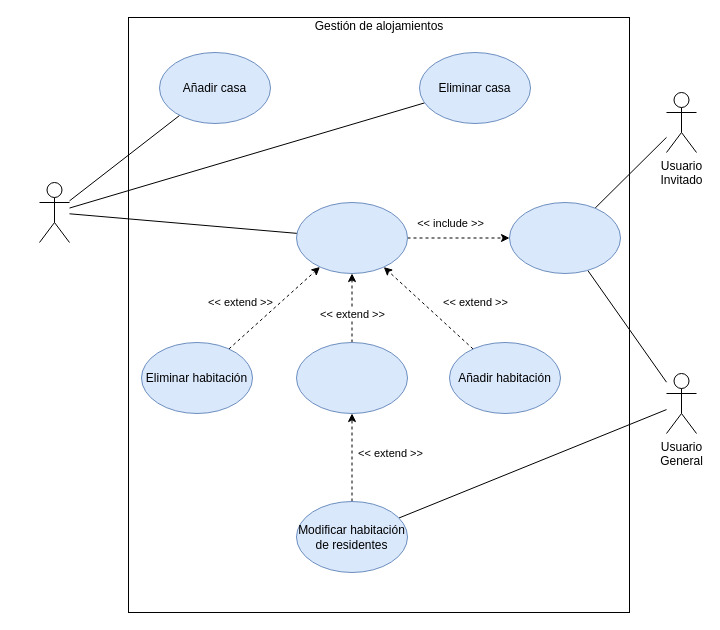
Image size: 720x630. Some labels were removed from this diagram. Each missing label, with the centre of its shape:
"Modificar casa" belongs at (x=352, y=238).
"Modificar habitación" belongs at (x=352, y=378).
"Obtener información de la casa" belongs at (x=564, y=238).
"Usuario Administrador" belongs at (x=54, y=212).
